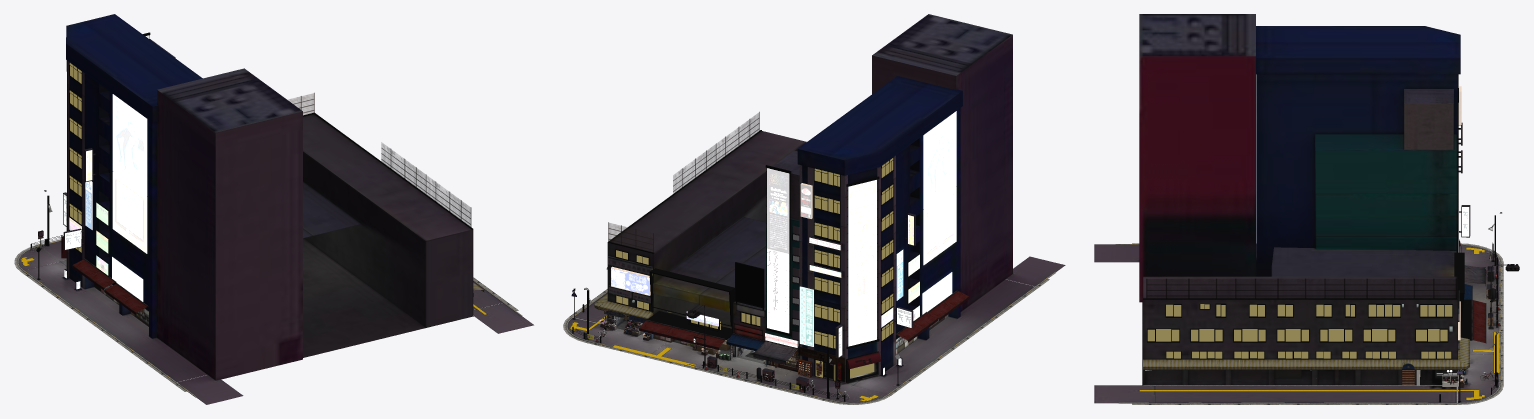
Rendered from TRY7_SCENE_MOBILE.glb.
3 views of the same model, side by side, from view 1: azimuth 30°, elevation 25°; view 2: azimuth 150°, elevation 25°; view 3: azimuth 270°, elevation 25° (orthographic). The views are drawn at different scales.
Parts seen in each view (by area): view 1: Box1801, Object002_5.001, Object1728.001, Box217, Object041, Box212_1, B_Networkrail_0003, Box079, Box077_1, Object1728, ALLWINDOWS, Object040 (+3 smaller); view 2: Object1728.001, Box1801, Object002_5.001, Box212_1, Box079, Object041, Object040, Box077_1, ALLWINDOWS, Object1741_1, Object1728, Box084_2 (+16 smaller); view 3: Box1801, Object1728.001, Object002_5.001, Object1714, Object041, ALLWINDOWS, B_Networkrail_0003, Box079, Box077_1, Box217, Box007_1_1, Object040 (+7 smaller).
Part boxes in pixels (x1,y1,x2,y2): Box1801: [157, 68, 302, 380]; Object002_5.001: [303, 114, 473, 327]; Object1728.001: [66, 14, 202, 338]; Box217: [303, 238, 473, 357]; Object041: [24, 260, 533, 404]; Box212_1: [112, 94, 147, 301]; B_Networkrail_0003: [381, 143, 471, 227]; Box079: [303, 182, 360, 238]; Box077_1: [69, 62, 483, 296]; Object1728: [67, 61, 84, 288]; ALLWINDOWS: [69, 63, 81, 252]; Object040: [18, 241, 66, 270]; Object1728.001: [797, 76, 962, 376]; Box1801: [872, 14, 1012, 311]; Object002_5.001: [607, 131, 806, 324]; Box212_1: [848, 111, 956, 346]; Box079: [653, 217, 768, 364]; Object041: [574, 256, 1065, 393]; Object040: [567, 318, 887, 402]; Box077_1: [595, 130, 920, 349]; ALLWINDOWS: [616, 158, 893, 380]; Object1741_1: [767, 168, 919, 333]; Object1728: [799, 155, 895, 383]; Box084_2: [649, 165, 879, 348]; Box1801: [1139, 14, 1255, 302]; Object1728.001: [1256, 26, 1460, 276]; Object002_5.001: [1143, 276, 1457, 385]; Object1714: [1315, 134, 1457, 250]; Object041: [1094, 244, 1456, 403]; ALLWINDOWS: [1147, 304, 1452, 358]; B_Networkrail_0003: [1146, 278, 1456, 298]; Box079: [1271, 247, 1456, 358]; Box077_1: [1143, 209, 1469, 369]; Box217: [1142, 262, 1435, 385]; Box007_1_1: [1143, 337, 1469, 369]; Object040: [1458, 245, 1499, 402].
Size of what is drawn, in the model's own units: 40.17 by 28.7 by 44.67.
338 materials, 279 textured.
